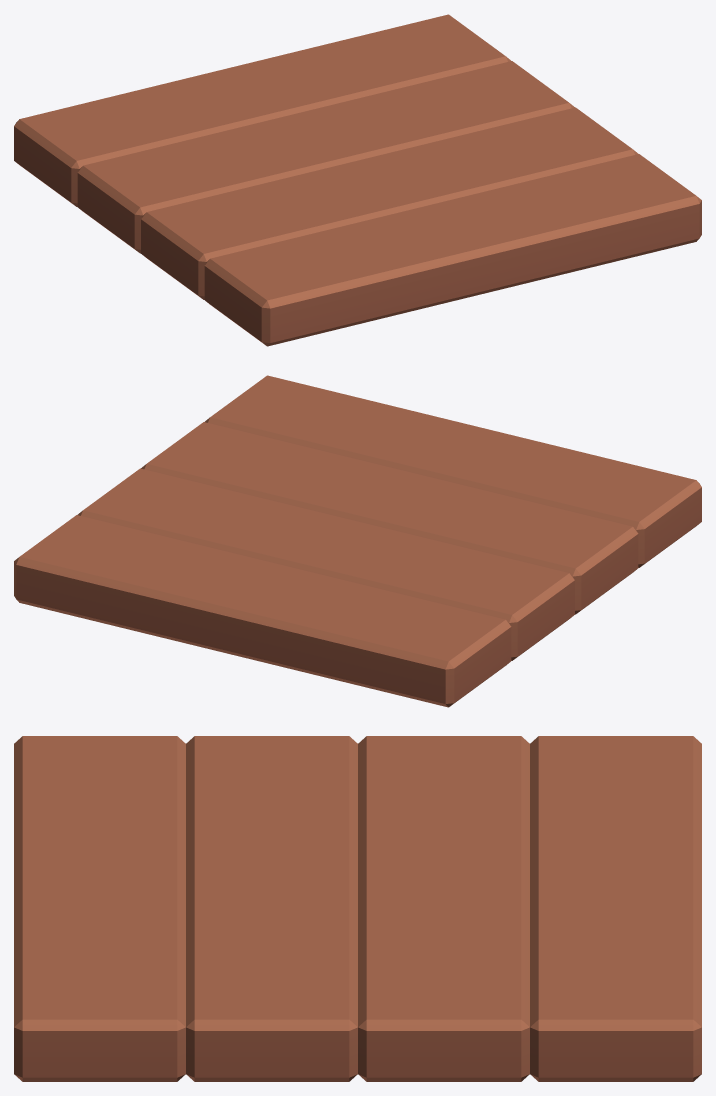
Rendered from kay-crate_lid.glb.
The picture shows the model from 3 angles, top to bottom: view 1: azimuth 30°, elevation 25°; view 2: azimuth 150°, elevation 25°; view 3: azimuth 270°, elevation 25°; orthographic projection. The views are drawn at different scales.
Visible parts, largest first — view 1: crate_lid; view 2: crate_lid; view 3: crate_lid.
Part boxes in pixels (<box>): crate_lid: <box>14,14,701,346</box>; crate_lid: <box>14,375,701,707</box>; crate_lid: <box>14,736,701,1081</box>.
Bounding box in the file's own units: 0.6 × 0.06 × 0.6.
Materials: 1 (1 with a texture image).
